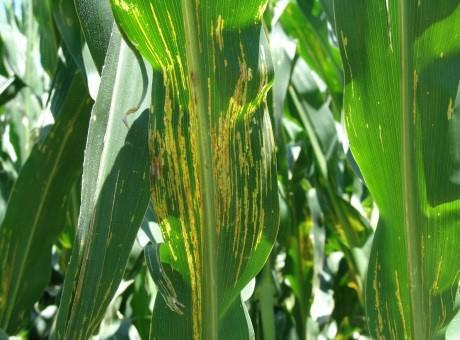Corn_Blight: (108, 2, 219, 336), (225, 12, 285, 293), (357, 241, 460, 339), (324, 24, 386, 156), (65, 182, 97, 333), (27, 107, 83, 160), (402, 63, 430, 144), (440, 86, 460, 131)
